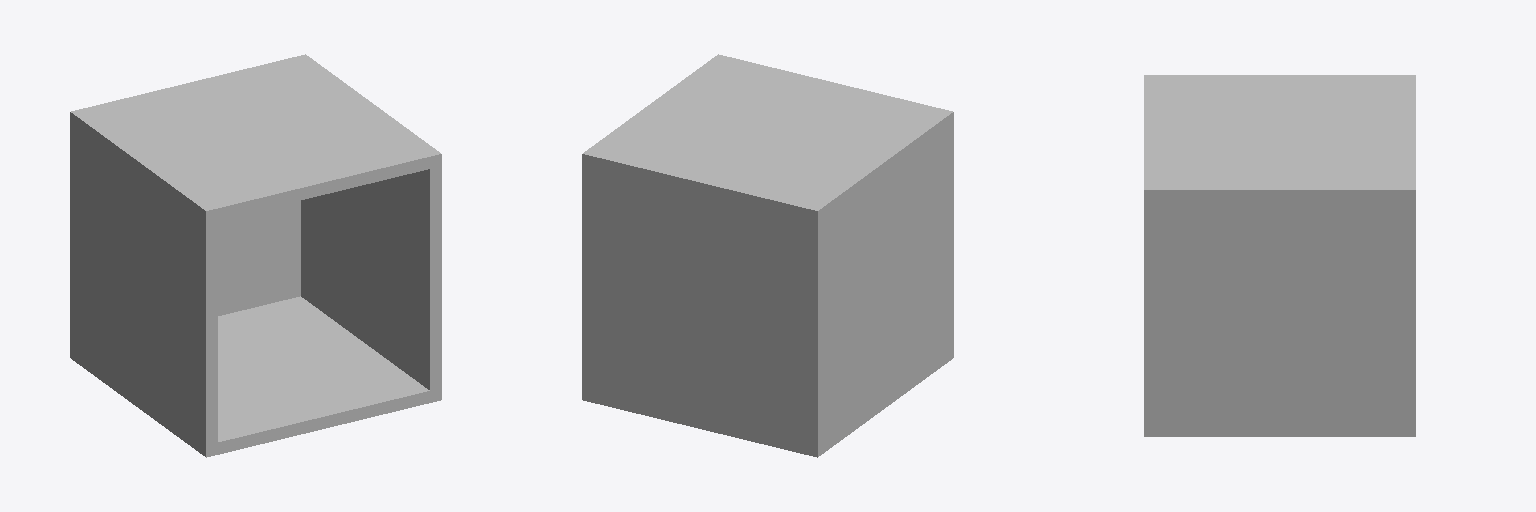
Rendered from CubeHollowOpenShape.obj.
3 renders of one model, left to right at view 1: azimuth 30°, elevation 25°; view 2: azimuth 150°, elevation 25°; view 3: azimuth 270°, elevation 25°, orthographic.
Visible parts, largest first — view 1: Cube_Cube.006; view 2: Cube_Cube.006; view 3: Cube_Cube.006.
Boxes of the visible parts, x1,y1,x2,y2 form: Cube_Cube.006: [70, 54, 441, 457]; Cube_Cube.006: [582, 54, 953, 457]; Cube_Cube.006: [1144, 75, 1415, 436].
Size of the model in its own units: 200 by 200 by 200.